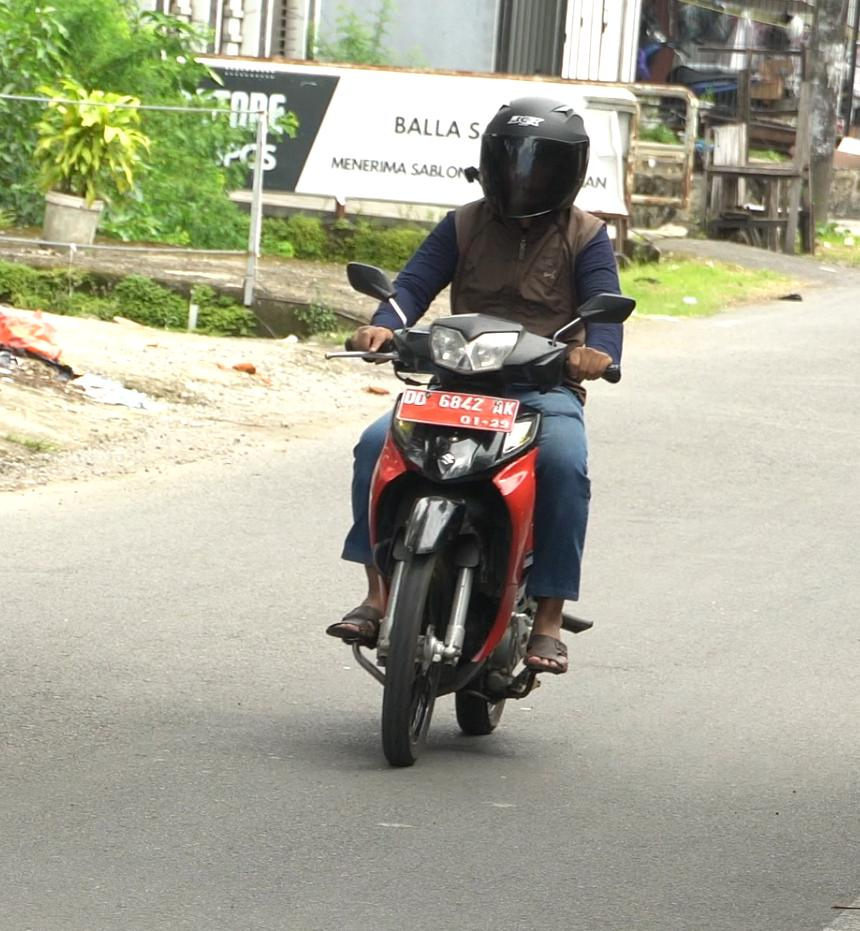number-plate: (398, 384, 519, 436)
